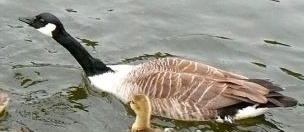goose: (14, 10, 301, 124)
